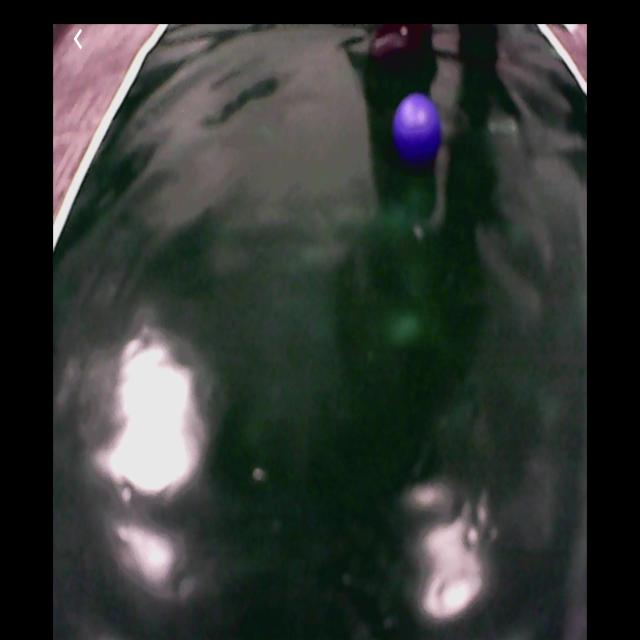ball: (396, 94, 442, 163)
